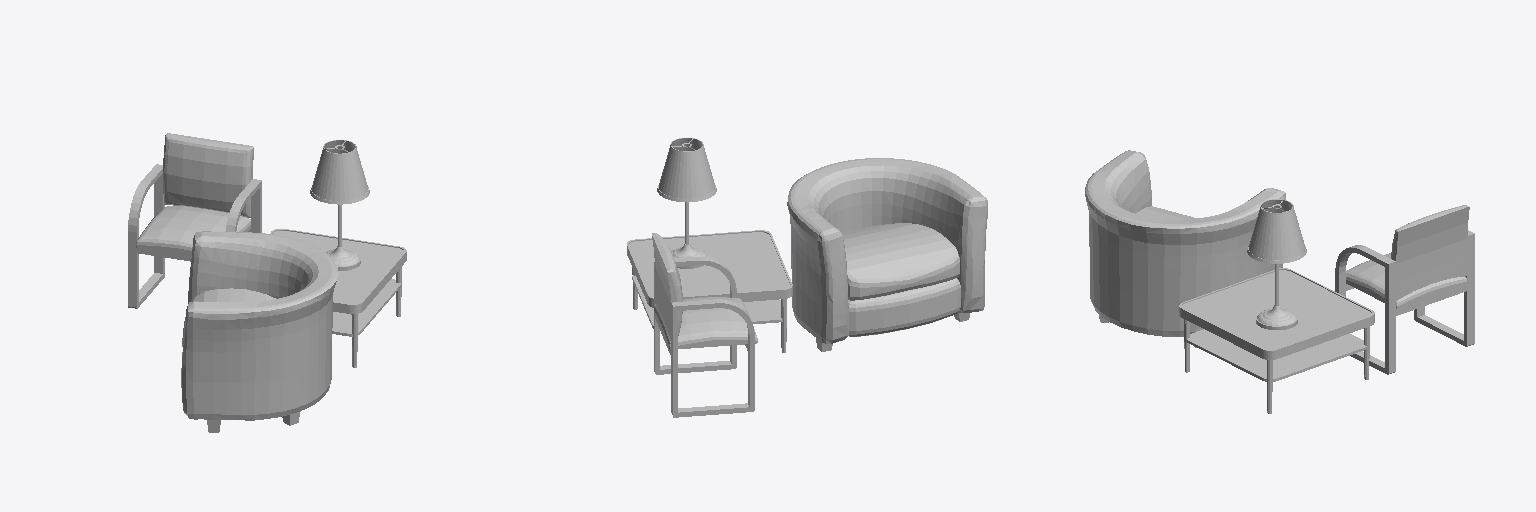
The model's file is cover_left.obj.
3 renders of one model, left to right at view 1: azimuth 30°, elevation 25°; view 2: azimuth 150°, elevation 25°; view 3: azimuth 270°, elevation 25°, orthographic.
Parts seen in each view (by area): view 1: ?????-ue_SM_CoffeeTable_01b2; view 2: ?????-ue_SM_CoffeeTable_01b2; view 3: ?????-ue_SM_CoffeeTable_01b2.
Part boxes in pixels (bbox=[...]): ?????-ue_SM_CoffeeTable_01b2: bbox=[128, 133, 406, 432]; ?????-ue_SM_CoffeeTable_01b2: bbox=[627, 138, 987, 417]; ?????-ue_SM_CoffeeTable_01b2: bbox=[1085, 150, 1474, 413].
Size of the model in its own units: 180 by 107 by 210.